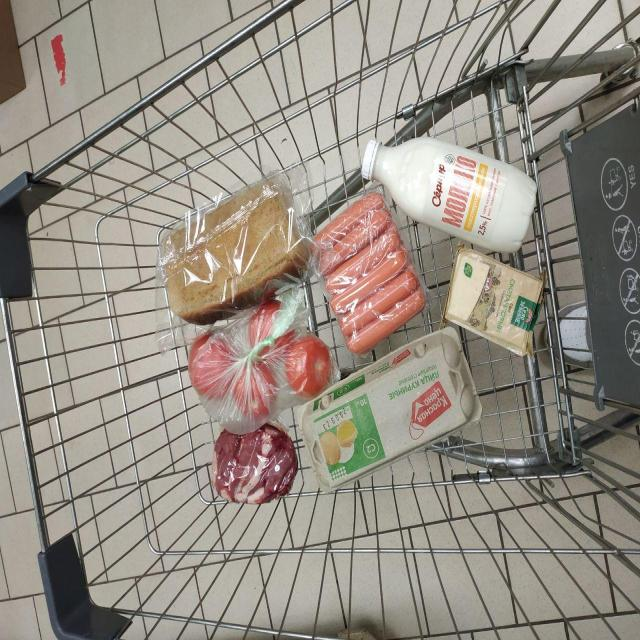Bread: (161, 178, 310, 324)
Cheese: (441, 245, 545, 356)
Eggs: (298, 327, 481, 492)
Meat: (211, 423, 298, 503)
Milk: (362, 138, 536, 252)
Sausages: (314, 190, 428, 353)
Tomatoes: (190, 333, 235, 398), (285, 335, 331, 398), (232, 362, 276, 418), (249, 300, 281, 348), (274, 330, 295, 348), (260, 347, 271, 356)
